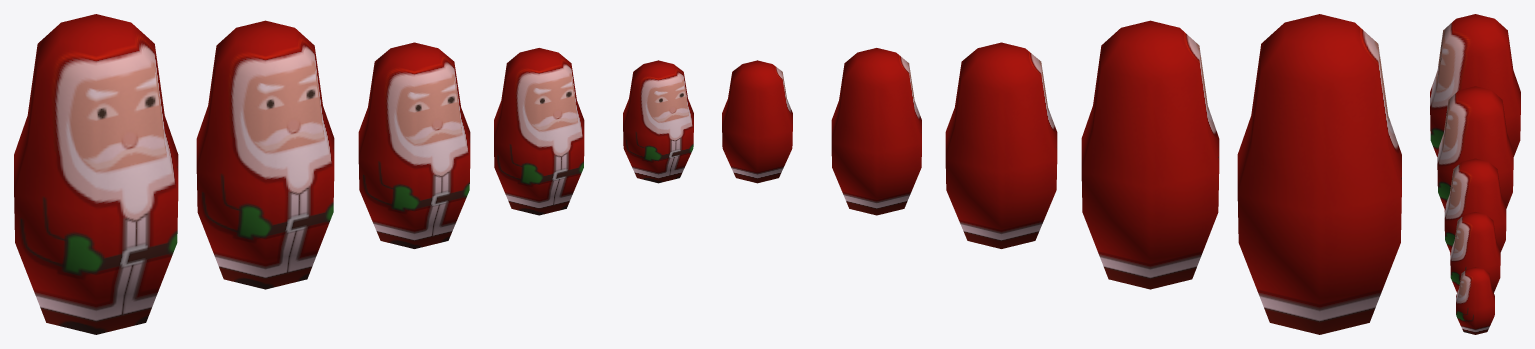
File: SantaMatroska_Set5dolls.FBX
3 renders of one model, left to right at view 1: azimuth 30°, elevation 25°; view 2: azimuth 150°, elevation 25°; view 3: azimuth 270°, elevation 25°, orthographic. The views are drawn at different scales.
Visible parts, largest first — view 1: Line031, Line035, Line036, Line037, Line038; view 2: Line031, Line035, Line036, Line037, Line038; view 3: Line031, Line035, Line036, Line037, Line038.
Boxes of the visible parts, x1,y1,x2,y2 form: Line031: [14, 14, 178, 334]; Line035: [196, 20, 334, 289]; Line036: [358, 42, 470, 248]; Line037: [494, 48, 584, 215]; Line038: [623, 60, 693, 183]; Line031: [1237, 14, 1401, 334]; Line035: [1081, 20, 1219, 289]; Line036: [945, 42, 1057, 248]; Line037: [831, 48, 921, 215]; Line038: [722, 60, 792, 183]; Line031: [1430, 14, 1520, 156]; Line035: [1437, 86, 1513, 208]; Line036: [1444, 158, 1506, 251]; Line037: [1450, 212, 1500, 292]; Line038: [1456, 267, 1494, 334].
Bounding box in the file's own units: 95.24 × 38.11 × 19.92.
Materials: 1 (1 with a texture image).
